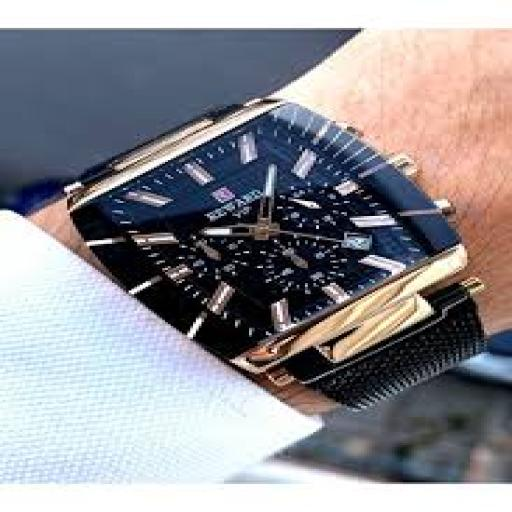KolSaati: (50, 66, 506, 406)
